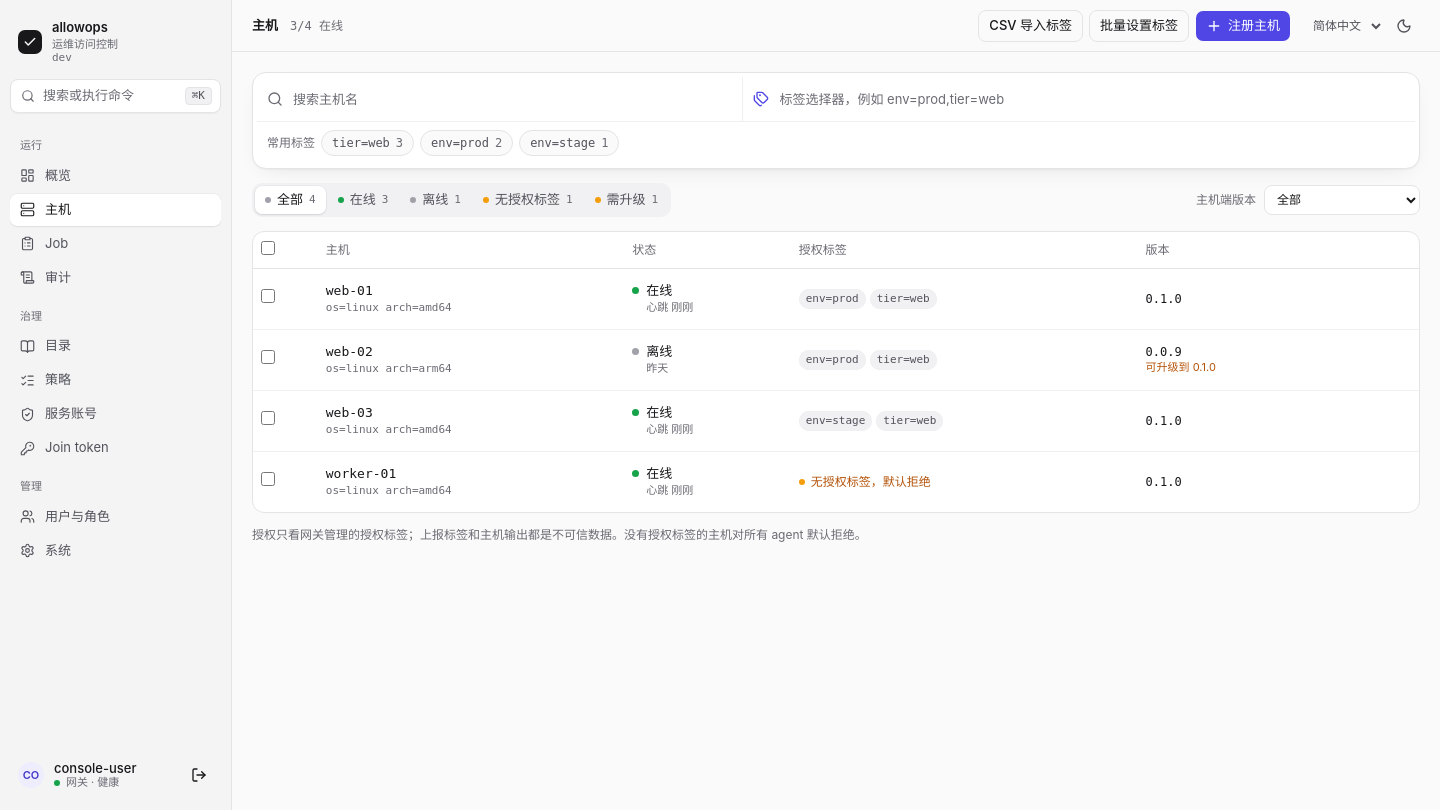
Test: hosts selection bar › copies the selection as MCP targets with expected_count
The width and height of the screenshot is (1440, 810).
Check: the heading "主机" is shown, box [252, 16, 278, 35]
Check: the link "web-01" is shown, box [326, 280, 373, 300]
Click the checkbox named "选择 web-01" at (268, 296), box [261, 289, 275, 303]
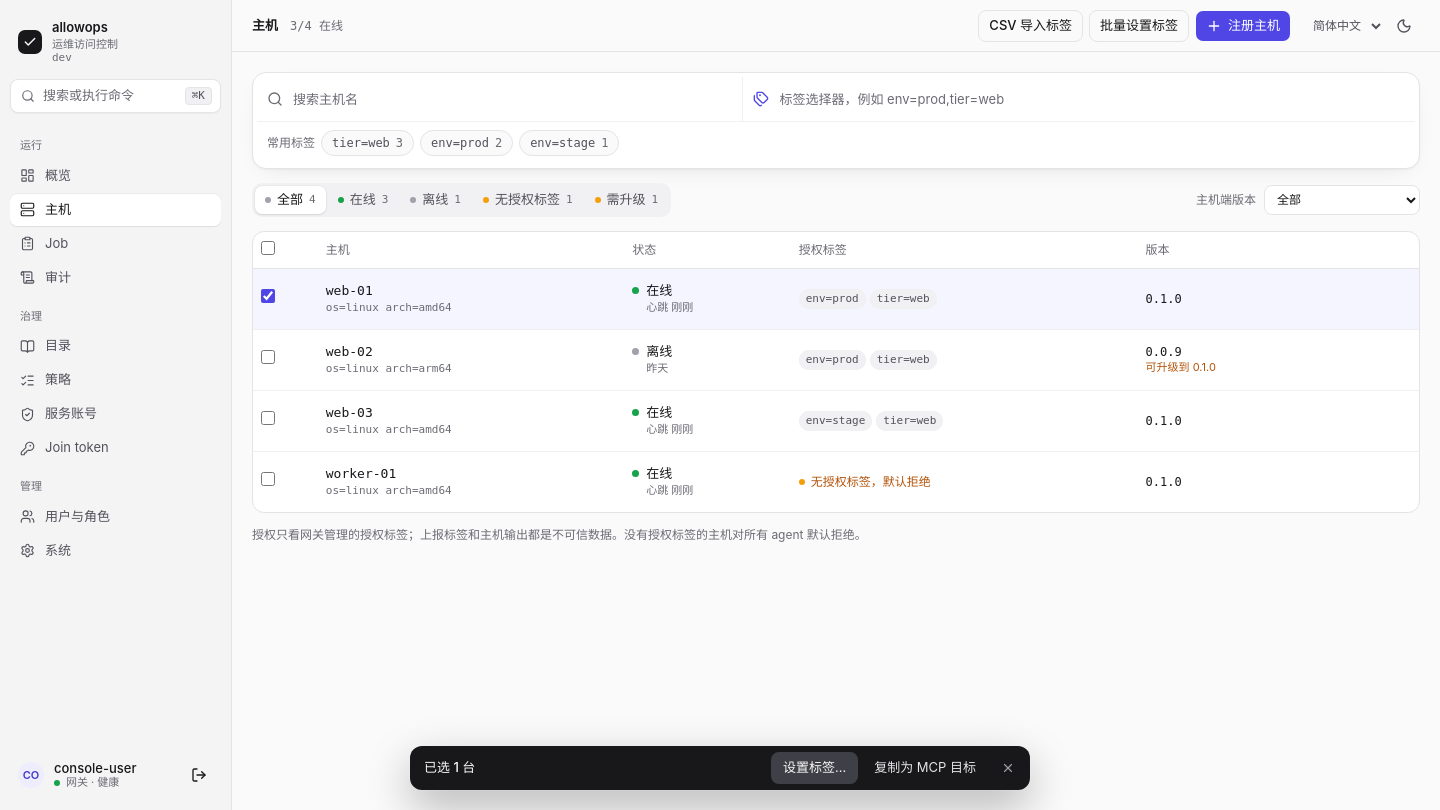
Click the button "复制为 MCP 目标" at (925, 768), box [862, 752, 988, 784]
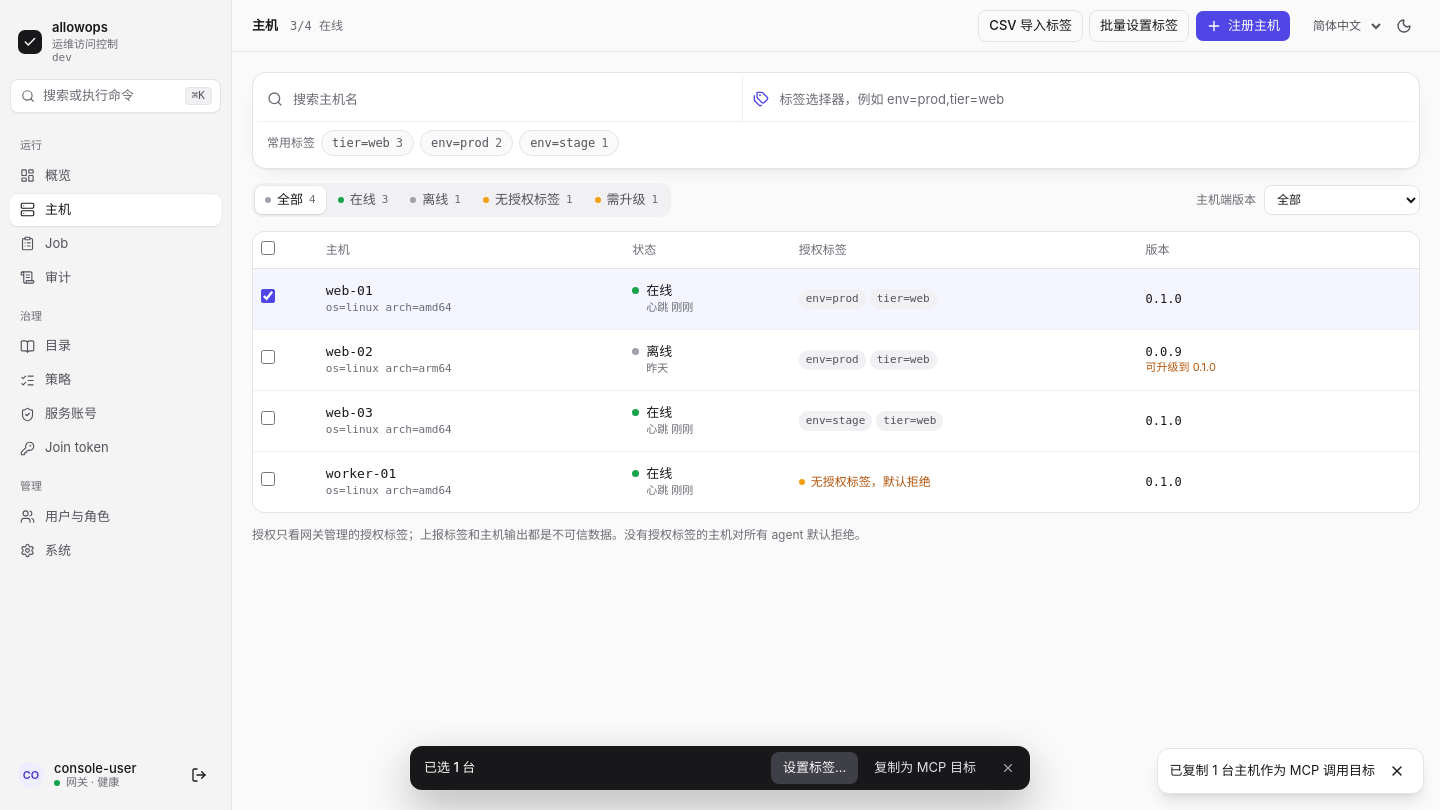
Check: the message reads "已复制 1 台主机作为 MCP 调用目标", box [1170, 762, 1375, 778]
